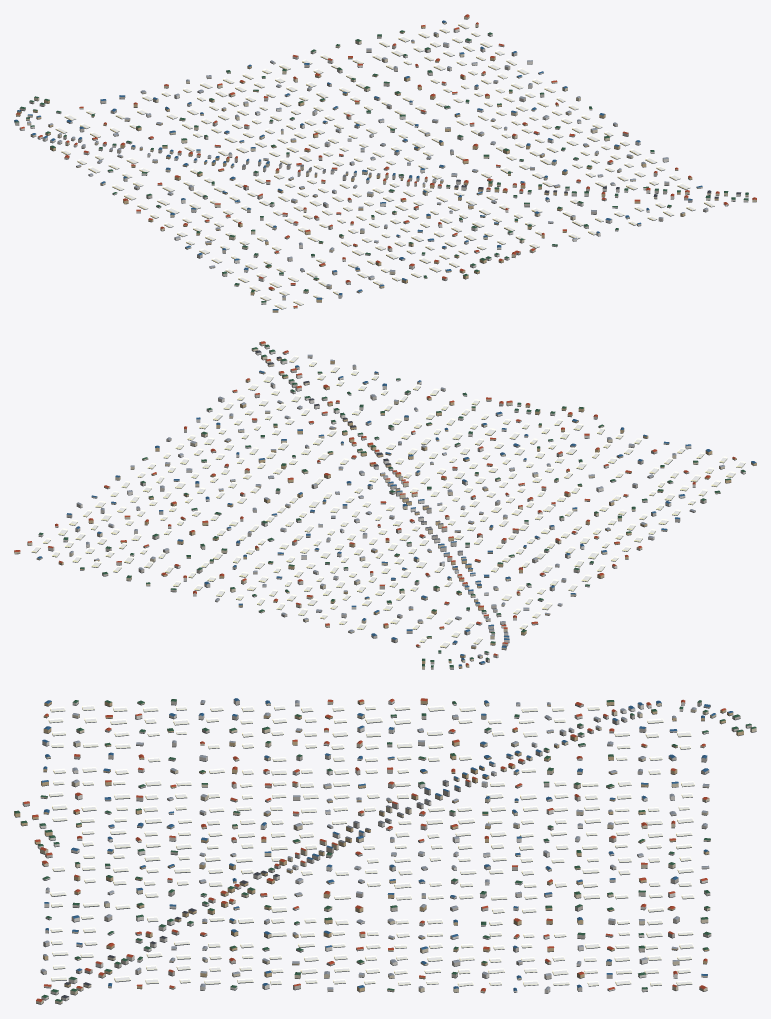
File: buildings_T_W08_N00.glb
3 renders of one model, top to bottom at view 1: azimuth 30°, elevation 25°; view 2: azimuth 150°, elevation 25°; view 3: azimuth 270°, elevation 25°, orthographic. The views are drawn at different scales.
Visible parts, largest first — view 1: T_W08_N00_roofs_agri_greenhouse_arch, T_W08_N00_slope_seating_foundations, T_W08_N00_walls_wall_pastel_sand_gray, T_W08_N00_walls_wall_french_ochre_villa, T_W08_N00_walls_wall_modern_warm_white, T_W08_N00_walls_wall_dalat_cream_stucco, T_W08_N00_roofs_roof_pine_green_hip, T_W08_N00_roofs_roof_terracotta_gable, T_W08_N00_roofs_roof_zinc_silver_gable, T_W08_N00_roofs_roof_highland_blue_gable; view 2: T_W08_N00_roofs_agri_greenhouse_arch, T_W08_N00_slope_seating_foundations, T_W08_N00_walls_wall_pastel_sand_gray, T_W08_N00_walls_wall_french_ochre_villa, T_W08_N00_walls_wall_dalat_cream_stucco, T_W08_N00_walls_wall_modern_warm_white, T_W08_N00_roofs_roof_terracotta_gable, T_W08_N00_roofs_roof_pine_green_hip, T_W08_N00_roofs_roof_zinc_silver_gable, T_W08_N00_roofs_roof_highland_blue_gable; view 3: T_W08_N00_roofs_agri_greenhouse_arch, T_W08_N00_slope_seating_foundations, T_W08_N00_walls_wall_pastel_sand_gray, T_W08_N00_walls_wall_french_ochre_villa, T_W08_N00_walls_wall_dalat_cream_stucco, T_W08_N00_walls_wall_modern_warm_white, T_W08_N00_roofs_roof_terracotta_gable, T_W08_N00_roofs_roof_pine_green_hip, T_W08_N00_roofs_roof_zinc_silver_gable, T_W08_N00_roofs_roof_highland_blue_gable.
Boxes of the visible parts, x1=… form: T_W08_N00_roofs_agri_greenhouse_arch: x1=55, y1=22, x2=714, y2=308; T_W08_N00_slope_seating_foundations: x1=14, y1=18, x2=756, y2=312; T_W08_N00_walls_wall_pastel_sand_gray: x1=14, y1=35, x2=708, y2=285; T_W08_N00_walls_wall_french_ochre_villa: x1=16, y1=25, x2=718, y2=312; T_W08_N00_walls_wall_modern_warm_white: x1=19, y1=28, x2=748, y2=304; T_W08_N00_walls_wall_dalat_cream_stucco: x1=26, y1=16, x2=756, y2=299; T_W08_N00_roofs_roof_pine_green_hip: x1=15, y1=30, x2=748, y2=302; T_W08_N00_roofs_roof_terracotta_gable: x1=16, y1=14, x2=756, y2=307; T_W08_N00_roofs_roof_zinc_silver_gable: x1=27, y1=32, x2=708, y2=297; T_W08_N00_roofs_roof_highland_blue_gable: x1=14, y1=20, x2=702, y2=310; T_W08_N00_roofs_agri_greenhouse_arch: x1=31, y1=355, x2=745, y2=647; T_W08_N00_slope_seating_foundations: x1=15, y1=344, x2=756, y2=669; T_W08_N00_walls_wall_pastel_sand_gray: x1=66, y1=355, x2=706, y2=669; T_W08_N00_walls_wall_french_ochre_villa: x1=58, y1=358, x2=756, y2=668; T_W08_N00_walls_wall_dalat_cream_stucco: x1=14, y1=342, x2=724, y2=669; T_W08_N00_walls_wall_modern_warm_white: x1=38, y1=346, x2=745, y2=657; T_W08_N00_roofs_roof_terracotta_gable: x1=14, y1=341, x2=735, y2=665; T_W08_N00_roofs_roof_pine_green_hip: x1=38, y1=344, x2=745, y2=667; T_W08_N00_roofs_roof_zinc_silver_gable: x1=69, y1=354, x2=724, y2=656; T_W08_N00_roofs_roof_highland_blue_gable: x1=37, y1=365, x2=756, y2=666; T_W08_N00_roofs_agri_greenhouse_arch: x1=48, y1=705, x2=694, y2=986; T_W08_N00_slope_seating_foundations: x1=14, y1=702, x2=756, y2=1004; T_W08_N00_walls_wall_pastel_sand_gray: x1=22, y1=699, x2=751, y2=991; T_W08_N00_walls_wall_french_ochre_villa: x1=14, y1=699, x2=743, y2=991; T_W08_N00_walls_wall_dalat_cream_stucco: x1=36, y1=700, x2=756, y2=1004; T_W08_N00_walls_wall_modern_warm_white: x1=37, y1=700, x2=709, y2=1000; T_W08_N00_roofs_roof_terracotta_gable: x1=23, y1=698, x2=725, y2=1001; T_W08_N00_roofs_roof_pine_green_hip: x1=14, y1=699, x2=756, y2=1001; T_W08_N00_roofs_roof_zinc_silver_gable: x1=41, y1=700, x2=709, y2=989; T_W08_N00_roofs_roof_highland_blue_gable: x1=41, y1=698, x2=733, y2=990.
Size of the model in its own units: 1848 by 39.41 by 1942.
